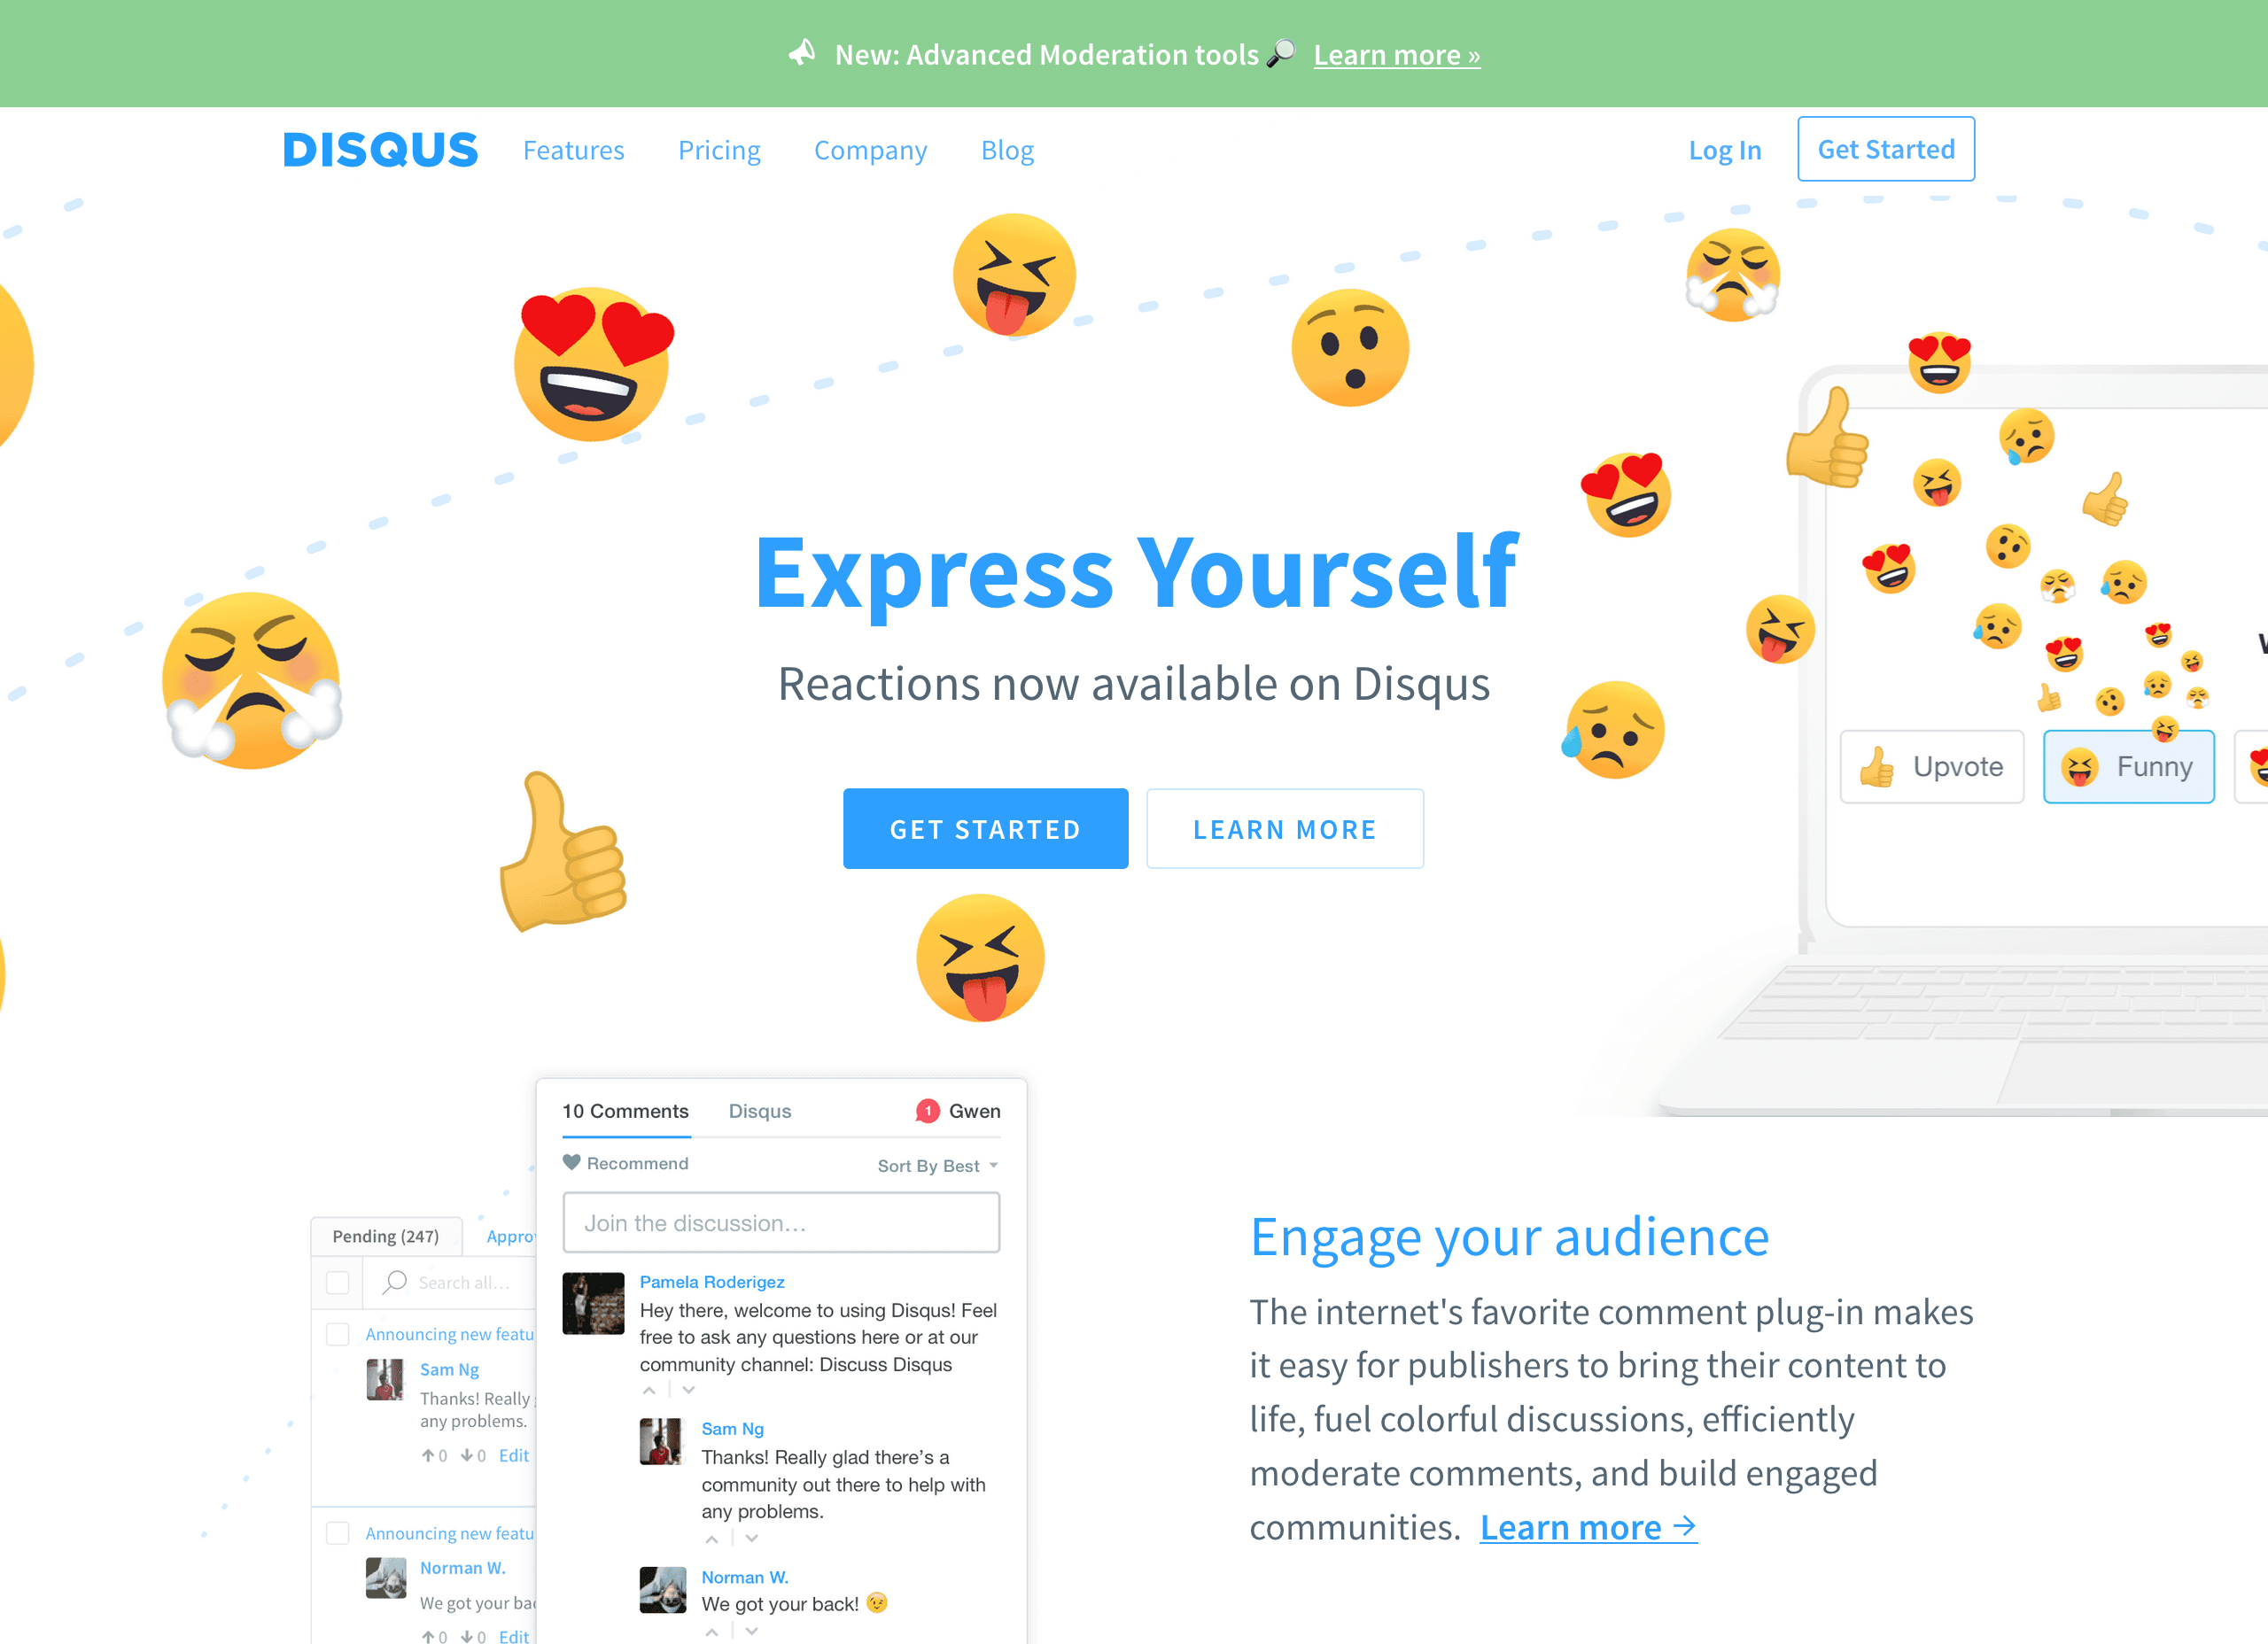Login: (1673, 123, 1778, 178)
